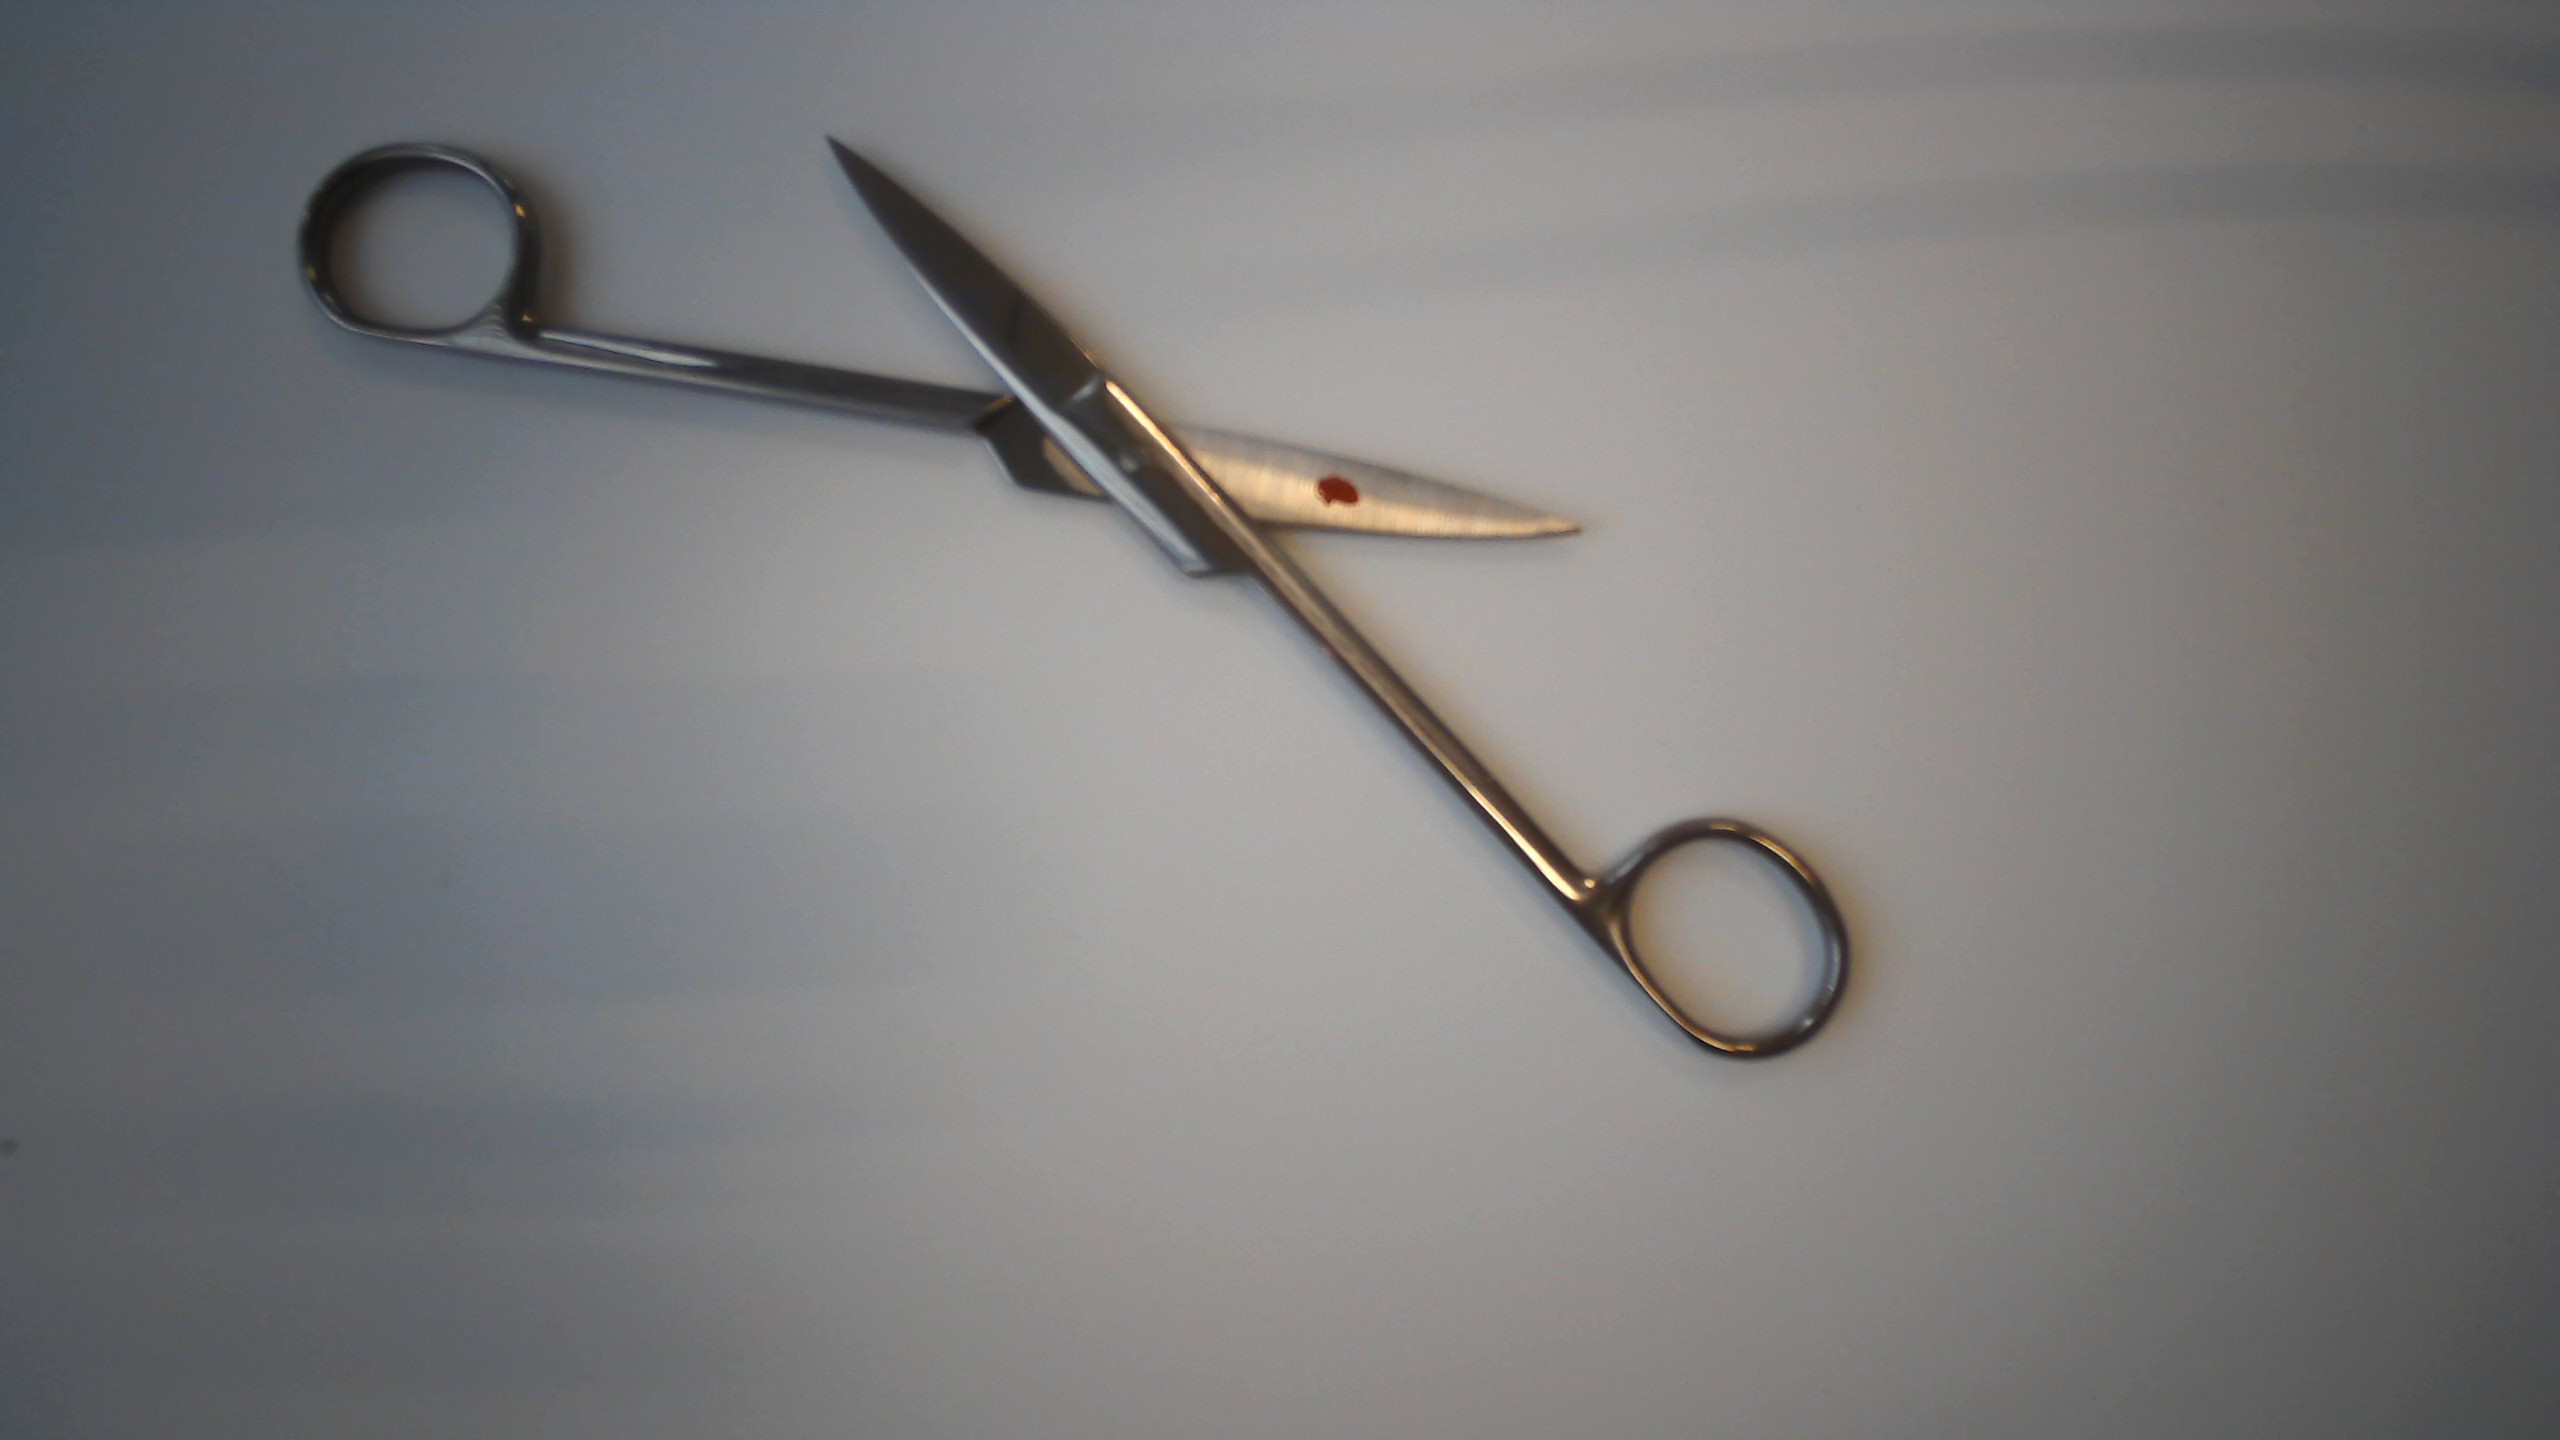Stain: (1305, 466, 1366, 512)
